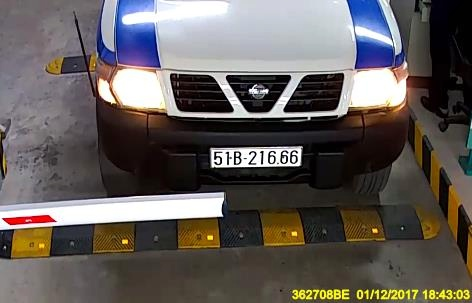plate: (208, 145, 303, 169)
